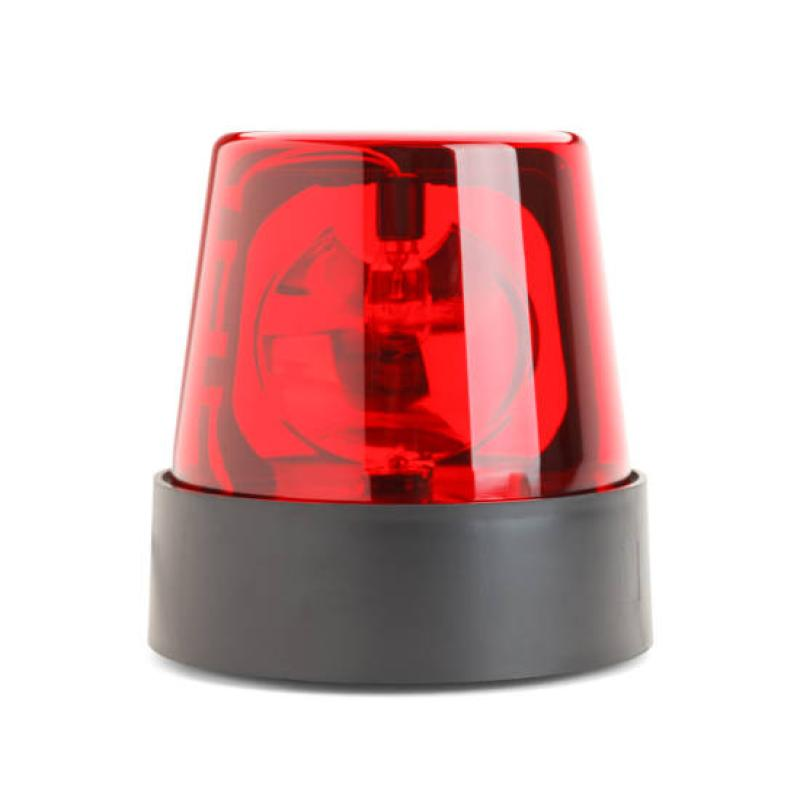AmbulanceSiren: (88, 42, 704, 705)
